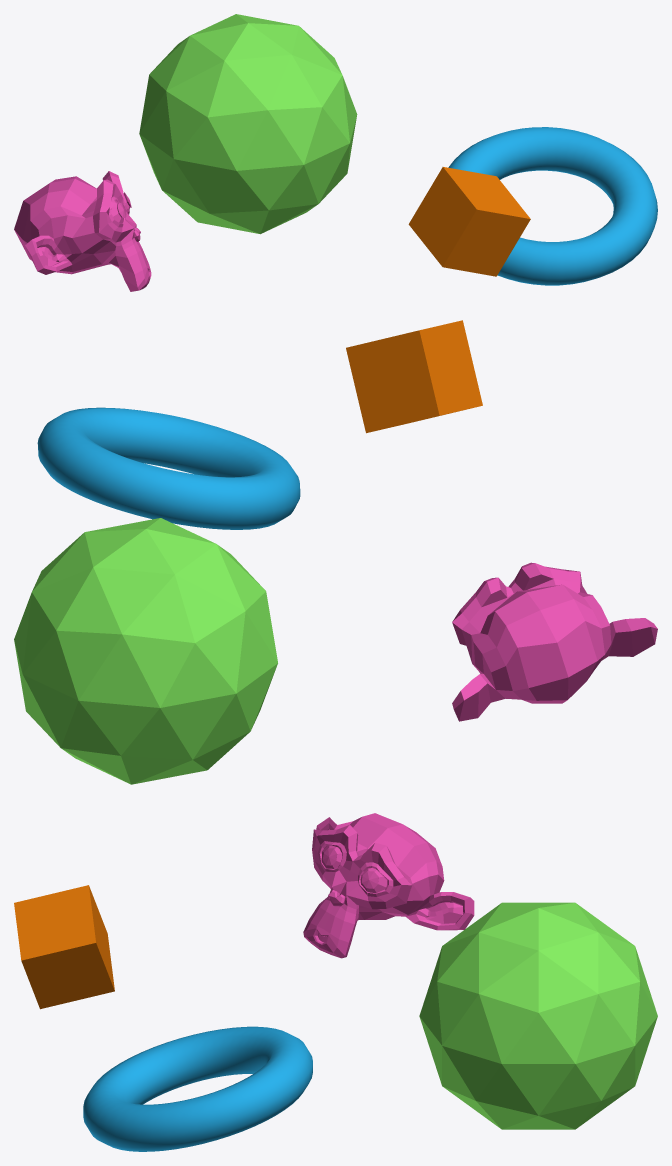
The picture shows the model from 3 angles, top to bottom: view 1: azimuth 30°, elevation 25°; view 2: azimuth 150°, elevation 25°; view 3: azimuth 270°, elevation 25°; orthographic projection. The views are drawn at different scales.
Parts seen in each view (by area): view 1: Icosphere, Torus, Suzanne, Cube; view 2: Icosphere, Torus, Suzanne, Cube; view 3: Icosphere, Torus, Suzanne, Cube.
Boxes of the visible parts, bbox=[...] form: Icosphere: bbox=[139, 14, 357, 234]; Torus: bbox=[448, 127, 657, 285]; Suzanne: bbox=[14, 171, 151, 291]; Cube: bbox=[408, 167, 530, 276]; Icosphere: bbox=[14, 518, 277, 784]; Torus: bbox=[37, 407, 300, 529]; Suzanne: bbox=[452, 562, 657, 721]; Cube: bbox=[346, 320, 482, 433]; Icosphere: bbox=[419, 902, 657, 1129]; Torus: bbox=[83, 1026, 312, 1151]; Suzanne: bbox=[303, 813, 474, 958]; Cube: bbox=[14, 885, 114, 1009].
Size of the model in its own units: 11.52 by 4.28 by 10.81.
